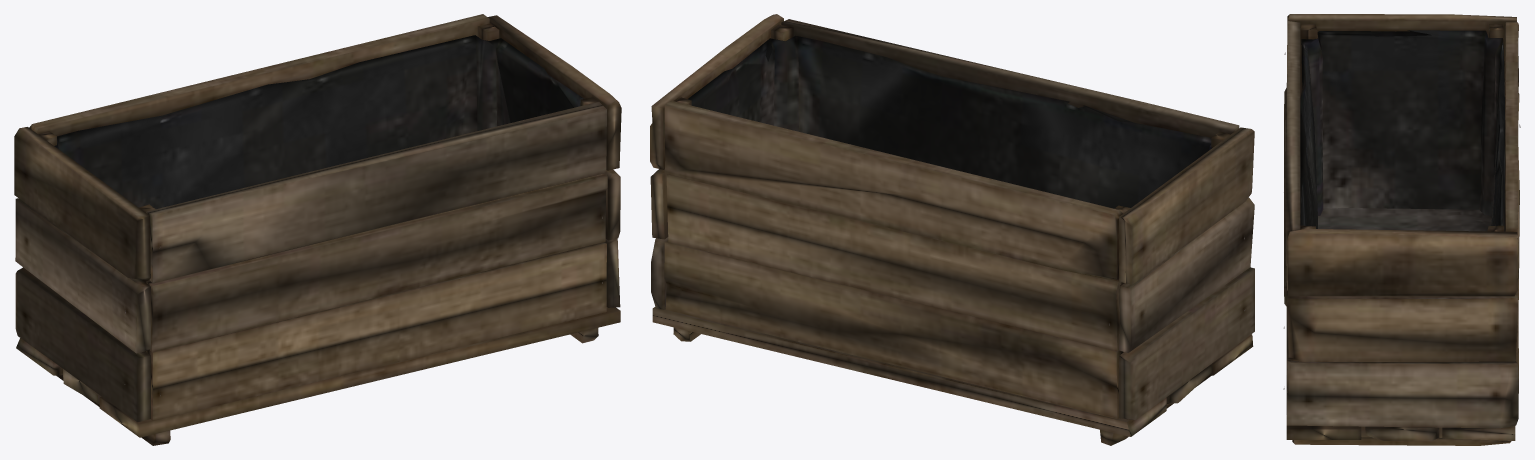
The model's file is planter_box_01.glb.
3 renders of one model, left to right at view 1: azimuth 30°, elevation 25°; view 2: azimuth 150°, elevation 25°; view 3: azimuth 270°, elevation 25°, orthographic. The views are drawn at different scales.
Parts seen in each view (by area): view 1: planter_box_01; view 2: planter_box_01; view 3: planter_box_01.
Part boxes in pixels (x1,y1,x2,y2): planter_box_01: [14, 14, 621, 445]; planter_box_01: [650, 14, 1254, 445]; planter_box_01: [1283, 14, 1520, 445].
Size of the model in its own units: 0.9084 by 0.425 by 0.4119.
1 material, 1 textured.
